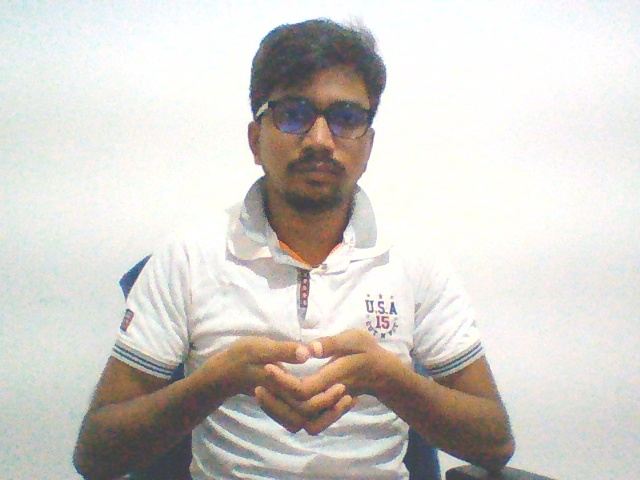mangosteen: (205, 322, 395, 445)
